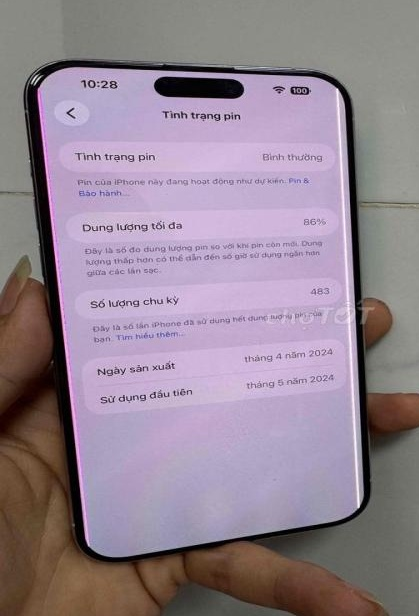screen_defect: (21, 78, 110, 552), (326, 80, 375, 520)
